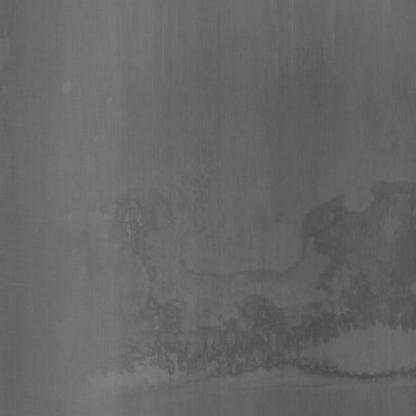water_spot: (132, 237, 416, 399), (305, 171, 412, 256)
